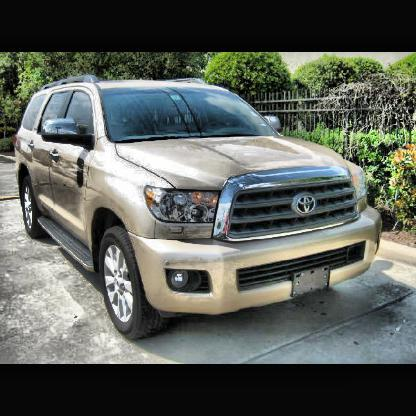Toyota Sequoia SUV 2012: (13, 74, 386, 334)
